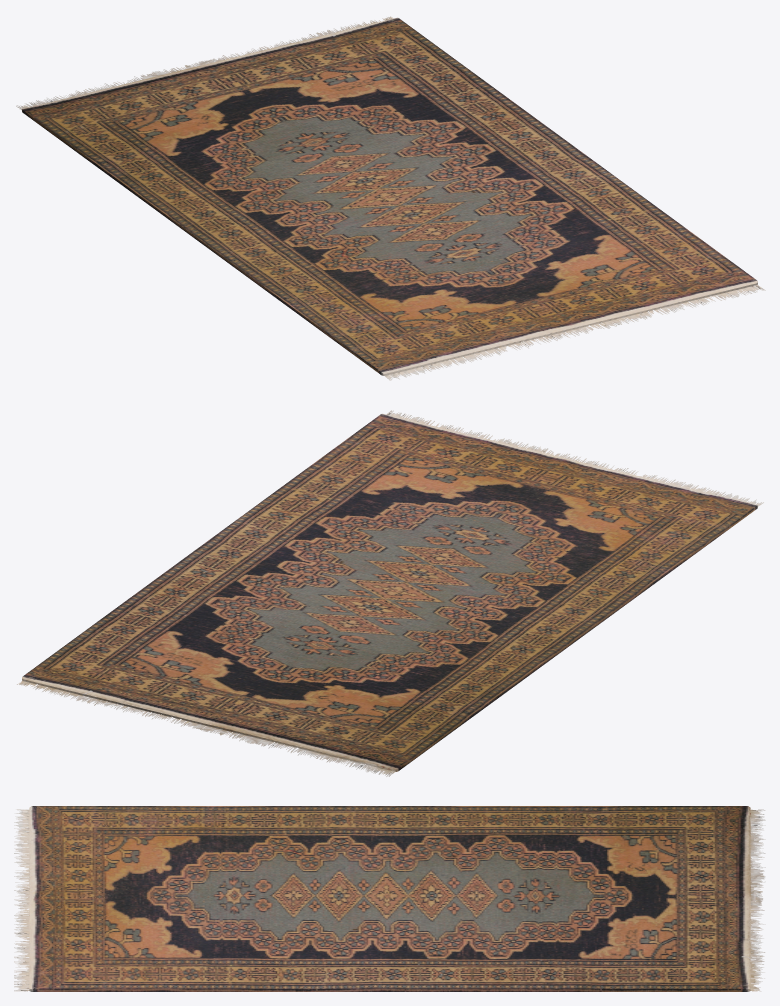
Rendered from persian_rug.glb.
3 views of the same model, one above another, from view 1: azimuth 30°, elevation 25°; view 2: azimuth 150°, elevation 25°; view 3: azimuth 270°, elevation 25° (orthographic).
Visible parts, largest first — view 1: rug01_MDL_nar; view 2: rug01_MDL_nar; view 3: rug01_MDL_nar.
Part boxes in pixels (x1,y1,x2,y2): rug01_MDL_nar: (16,16,765,380); rug01_MDL_nar: (17,410,763,776); rug01_MDL_nar: (14,806,765,991).
Size of the model in its own units: 300 by 2.15 by 521.
1 material, 1 textured.
